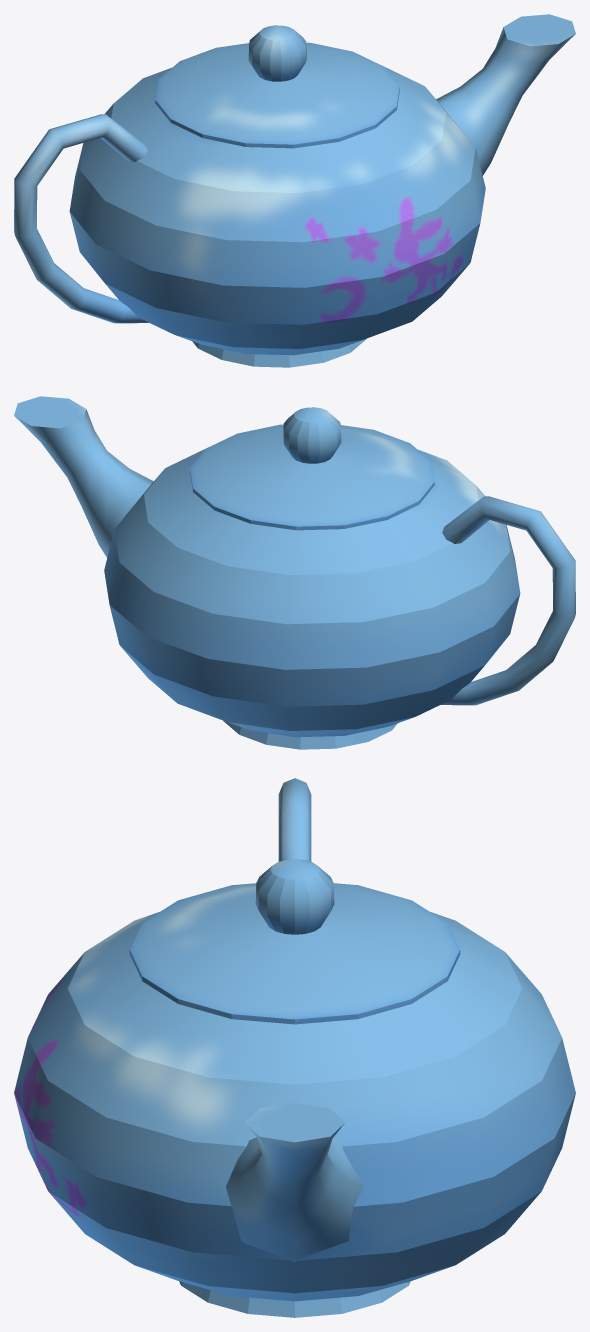
The model's file is TeaSet.fbx.
The picture shows the model from 3 angles, top to bottom: view 1: azimuth 30°, elevation 25°; view 2: azimuth 150°, elevation 25°; view 3: azimuth 270°, elevation 25°; orthographic projection. The views are drawn at different scales.
Visible parts, largest first — view 1: teaset; view 2: teaset; view 3: teaset.
Boxes of the visible parts, box(x1,y1,x2,y2) form: teaset: box(14, 14, 575, 367); teaset: box(14, 396, 575, 749); teaset: box(14, 778, 575, 1317).
Size of the model in its own units: 1.13 by 0.589 by 0.7382.
Materials: 1 (1 with a texture image).
